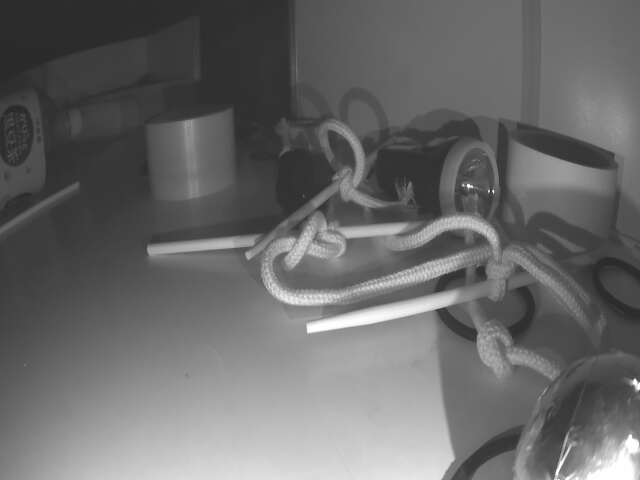Live: (509, 355, 640, 480)
Point: (65, 79, 196, 134)
